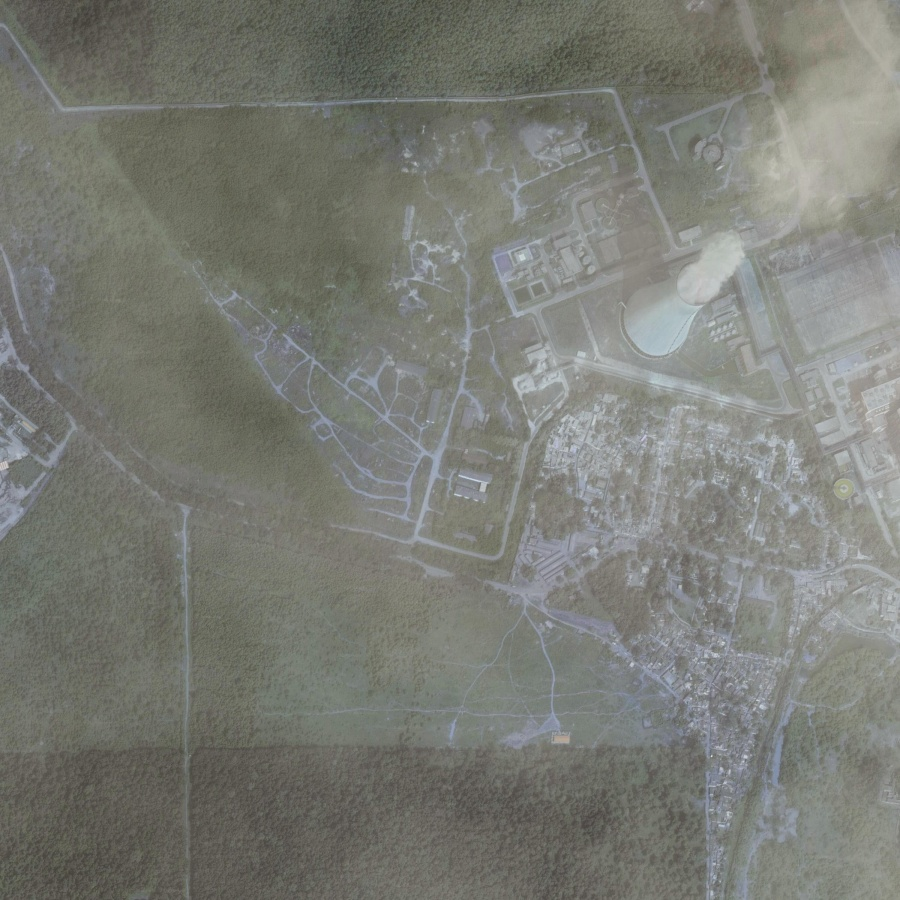PowerPlant: (613, 191, 768, 402)
